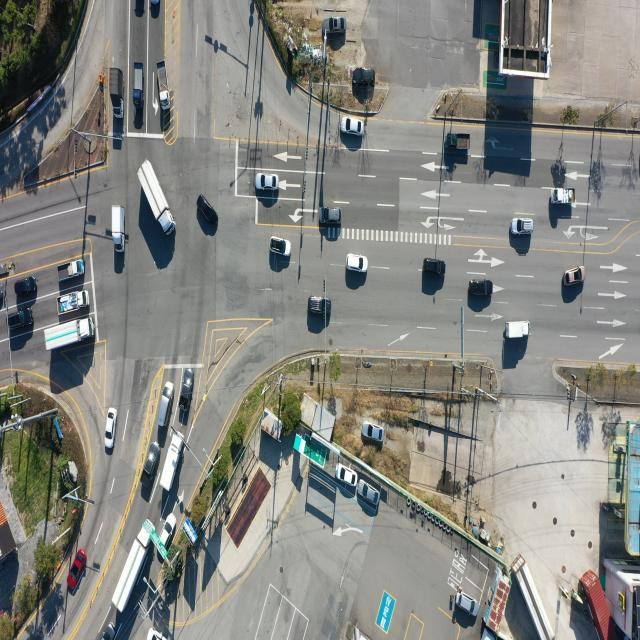car: (68, 548, 86, 594), (142, 435, 158, 485), (196, 196, 218, 232), (182, 369, 196, 425), (156, 380, 173, 426), (159, 510, 175, 556), (456, 590, 479, 618), (8, 310, 34, 332), (308, 295, 332, 316), (358, 483, 379, 507), (337, 466, 358, 489), (105, 408, 116, 450), (15, 277, 38, 297), (468, 279, 492, 298), (270, 237, 292, 257), (364, 422, 385, 442), (255, 173, 278, 191), (341, 120, 364, 138), (423, 260, 446, 278), (511, 217, 535, 234), (346, 254, 367, 272), (325, 17, 346, 35), (354, 67, 375, 85), (321, 207, 343, 224), (317, 203, 339, 220), (563, 269, 583, 286), (148, 627, 165, 640), (102, 625, 116, 640), (149, 0, 159, 8)
medium_truck: (114, 517, 156, 614), (518, 554, 557, 638), (137, 160, 174, 238), (44, 317, 96, 355), (158, 432, 184, 495)
small_truck: (111, 67, 126, 118), (59, 289, 90, 313), (157, 60, 170, 111), (111, 205, 125, 252), (57, 260, 85, 283), (133, 62, 145, 106), (506, 320, 531, 339), (446, 133, 472, 151), (552, 187, 576, 204)
